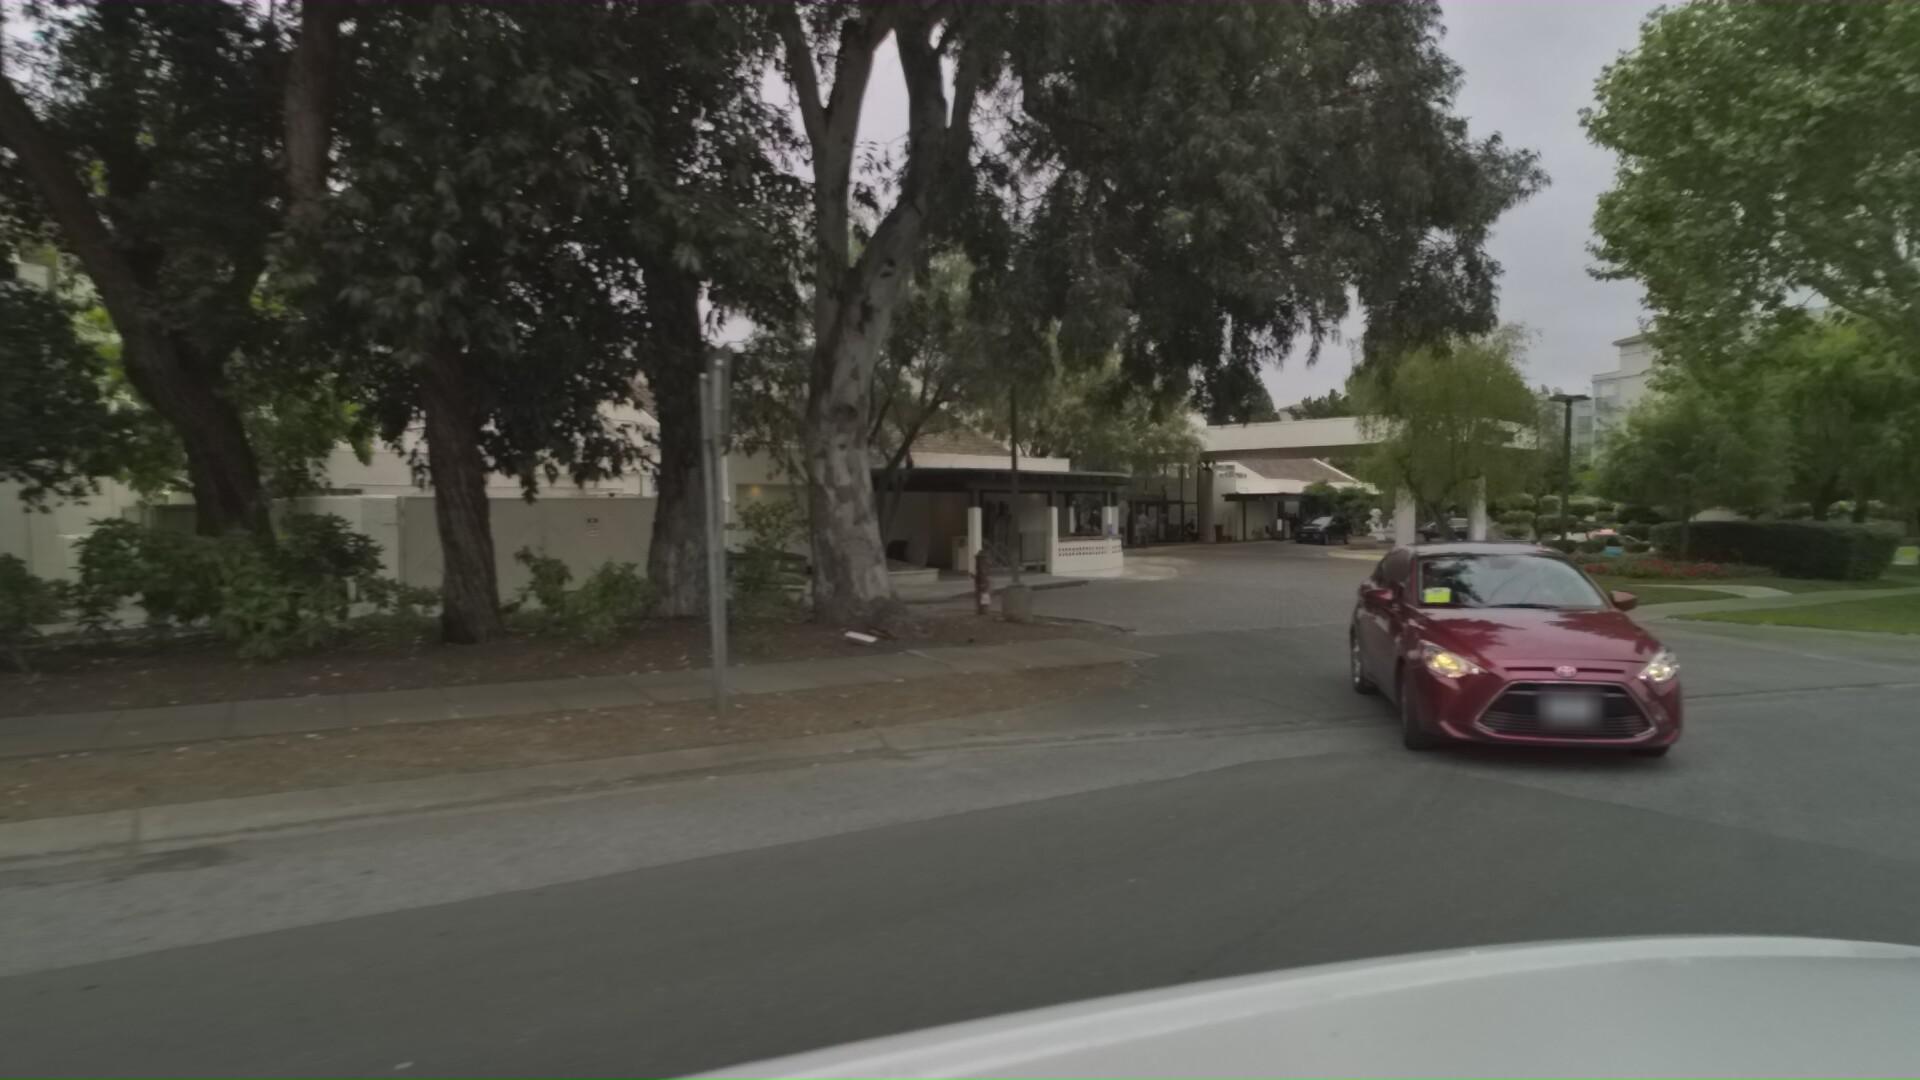car: (1360, 541, 1792, 820), (1520, 520, 1700, 575), (1404, 512, 1499, 543), (1288, 510, 1364, 545)
